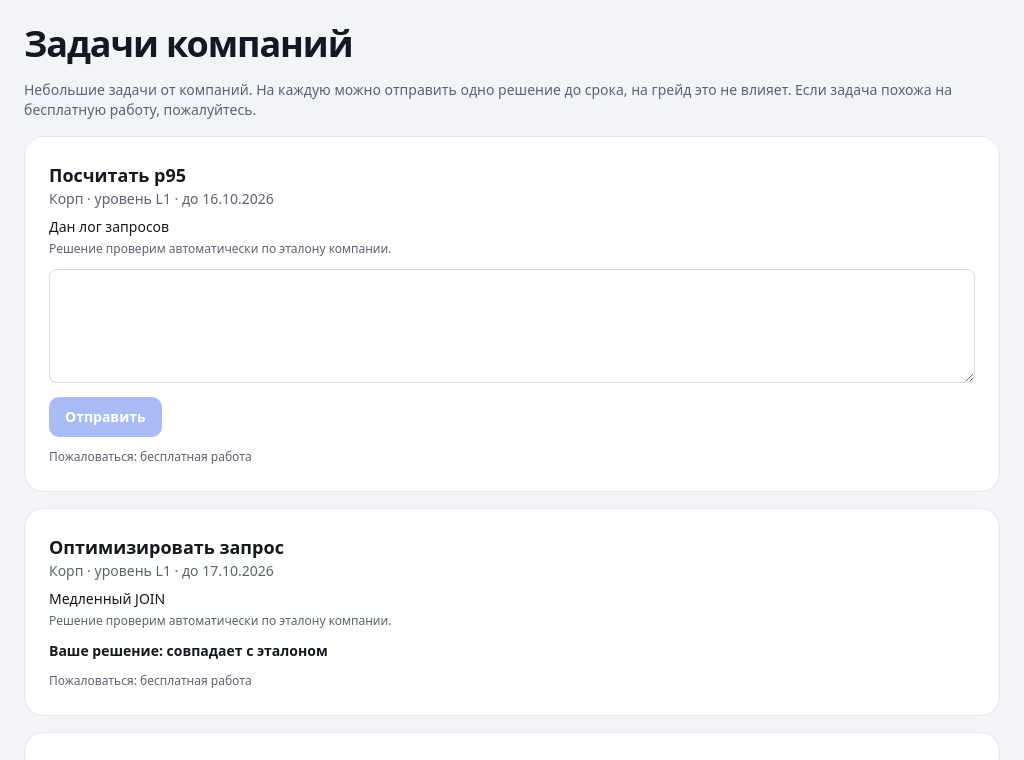
Test case: TasksPage › limits the answer by the server value and explains a rejected submission
Type "ответ" into the text box named "Ответ на задачу «Посчитать p95»" at (512, 326), box [49,269,975,383]
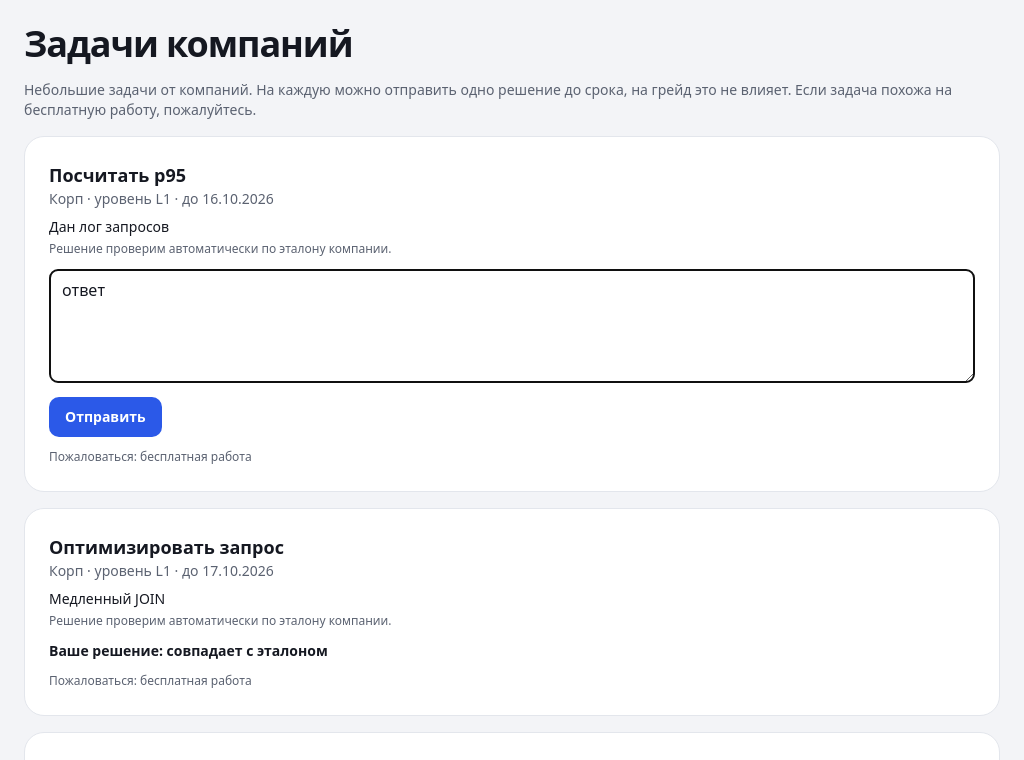
Click the button "Отправить" at (105, 417), box [49,397,162,437]
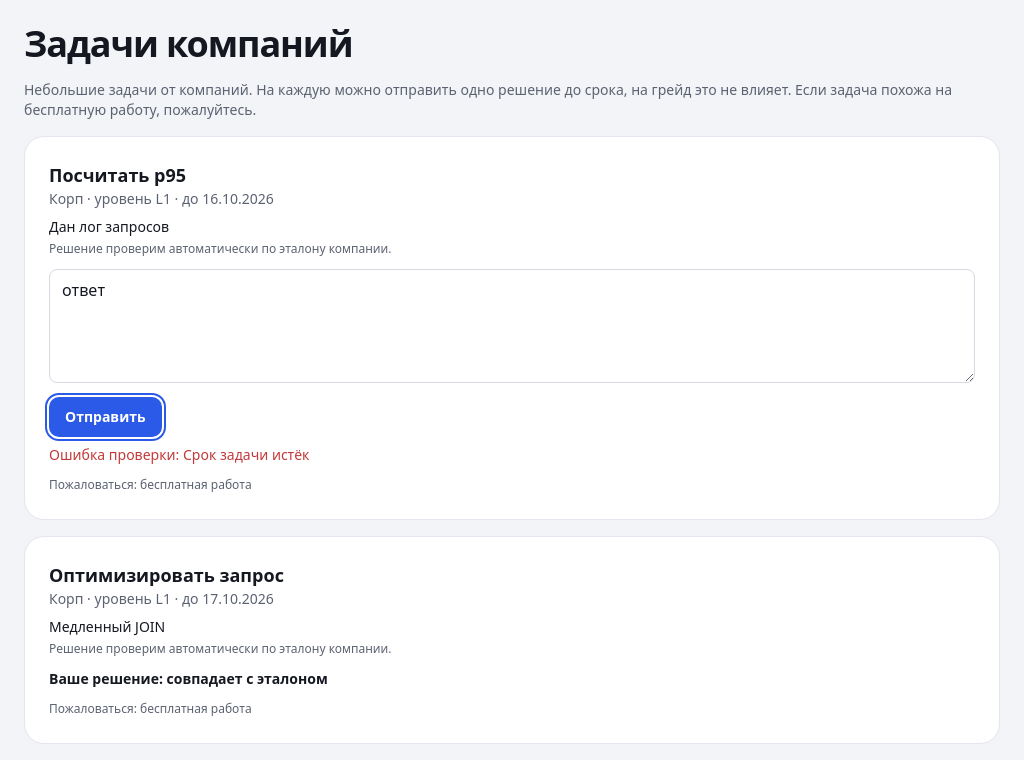
Check: the message reads "Ошибка проверки: Срок задачи истёк", box [49,445,309,464]
